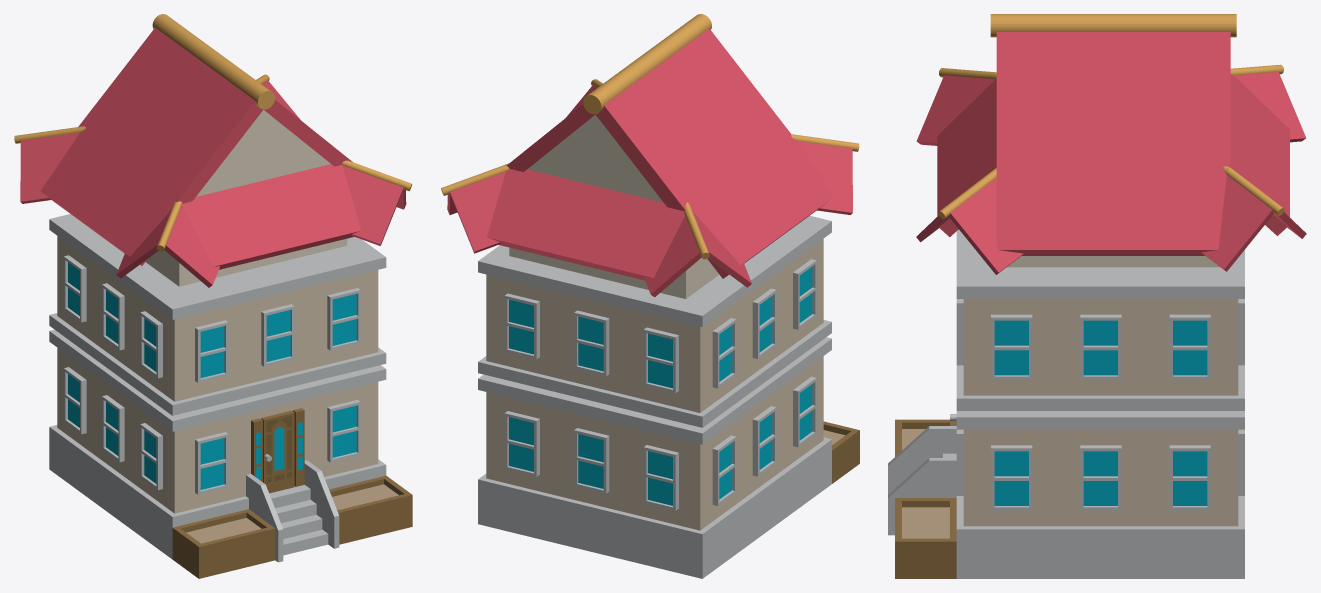
Rendered from house.gltf.
3 views of the same model, side by side, from view 1: azimuth 30°, elevation 25°; view 2: azimuth 150°, elevation 25°; view 3: azimuth 270°, elevation 25° (orthographic). The views are drawn at different scales.
Parts seen in each view (by area): view 1: Mesh_Mesh_head_geo.001_lambert2SG.001; view 2: Mesh_Mesh_head_geo.001_lambert2SG.001; view 3: Mesh_Mesh_head_geo.001_lambert2SG.001.
Part boxes in pixels (bbox=[...]): Mesh_Mesh_head_geo.001_lambert2SG.001: bbox=[14, 14, 412, 578]; Mesh_Mesh_head_geo.001_lambert2SG.001: bbox=[441, 14, 859, 578]; Mesh_Mesh_head_geo.001_lambert2SG.001: bbox=[888, 14, 1306, 578].
Bounding box in the file's own units: 56.96 × 81 × 61.
